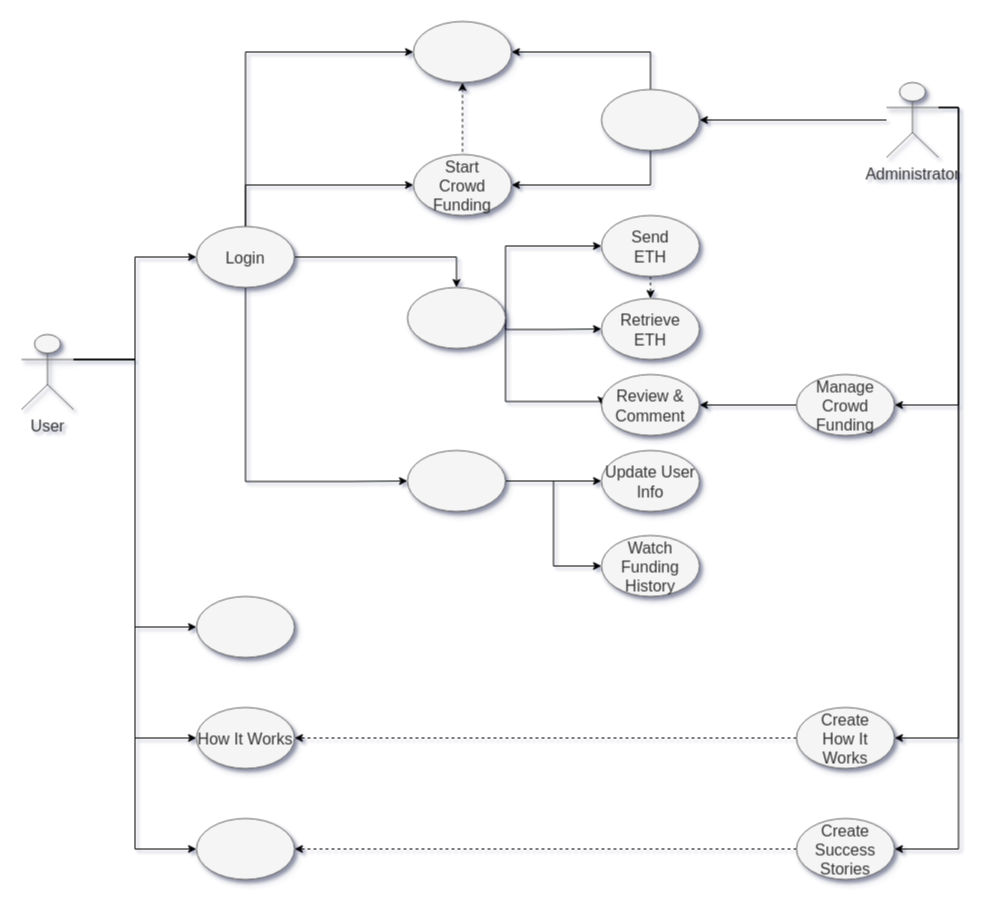
The diagram is 990 pixels wide and 910 high, and some of its shapes have lost their labels. Each missing label, with the centre of its shape:
"Edit Crowd Funding" belongs at [463,53].
"Explore Crowd Funding" belongs at [457,319].
"Explore Success Stories" belongs at [246,850].
"My Account" belongs at [457,482].
"Register" belongs at [246,628].
"Validate Crowd Funding" belongs at [651,121].
